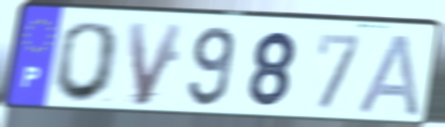7: (313, 31, 363, 113)
8: (245, 28, 299, 111)
9: (186, 25, 237, 110)
A: (354, 31, 422, 119)
O: (49, 19, 124, 104)
V: (124, 20, 187, 109)
